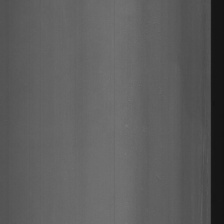silk_spot: (195, 101, 209, 221)
